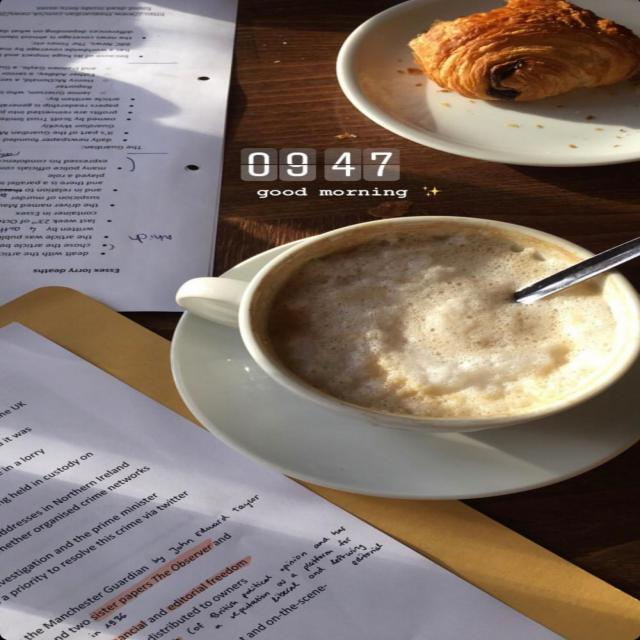cup-handle: (174, 216, 636, 436)
